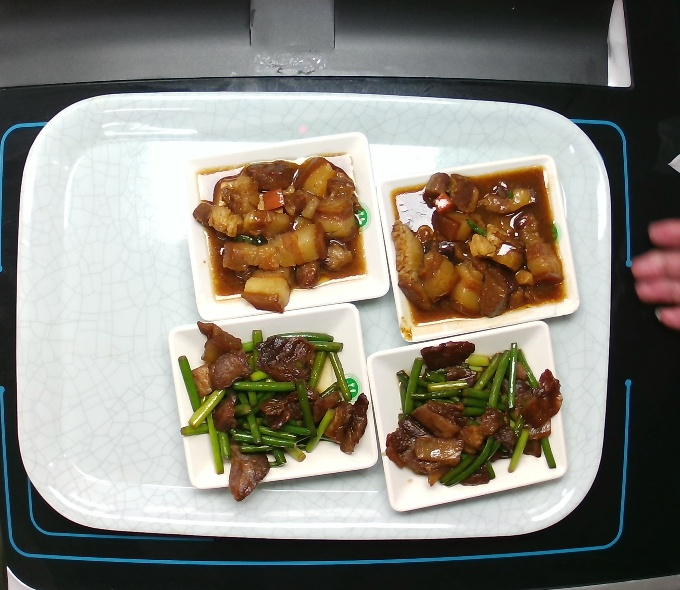wcq-HongShaoRou: (189, 150, 370, 317), (387, 165, 568, 332)
wcq-SuanMiaoChaoRou: (179, 326, 372, 503), (384, 332, 565, 492)
